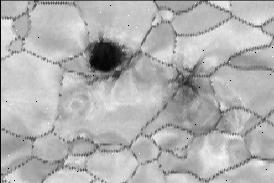good_void: (80, 34, 128, 82), (168, 54, 203, 107), (55, 91, 64, 97), (228, 2, 232, 8)
